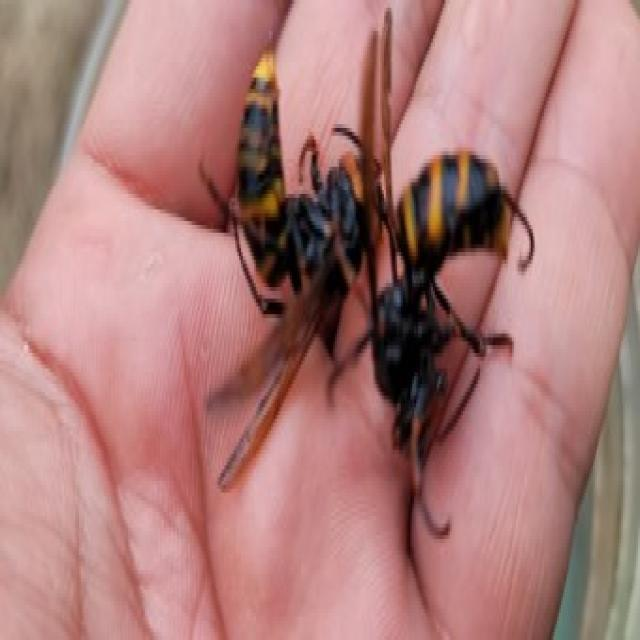Wasp: (353, 9, 546, 553), (209, 51, 359, 490)
